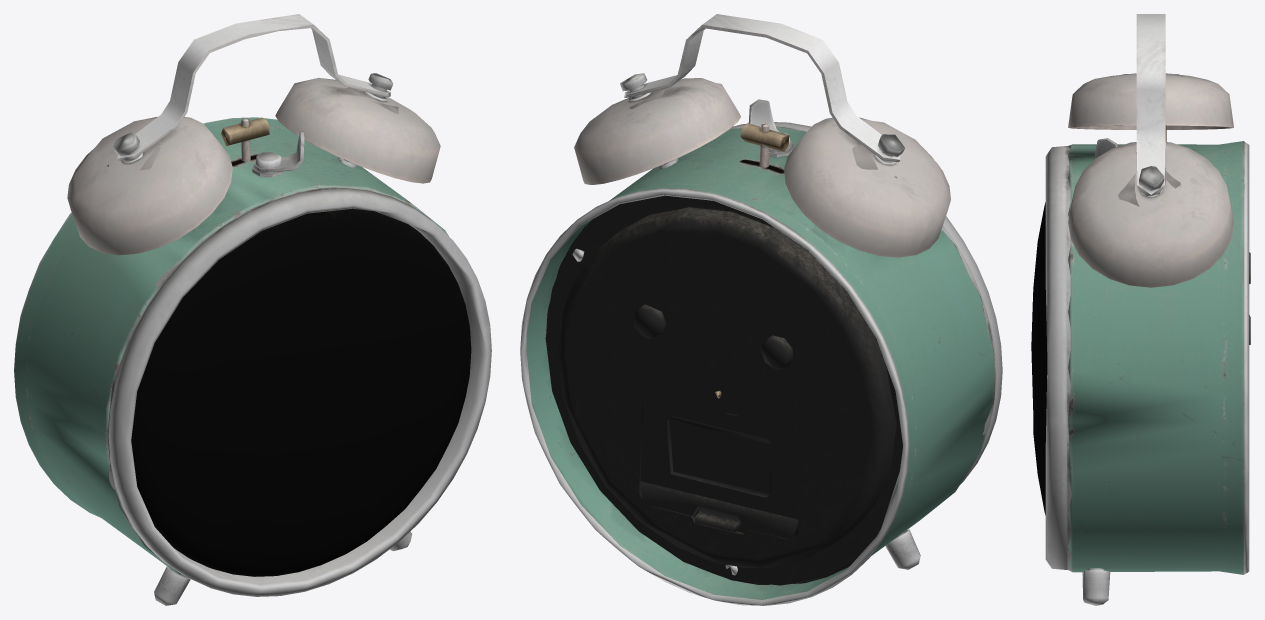
File: alarm_clock_01.glb
3 renders of one model, left to right at view 1: azimuth 30°, elevation 25°; view 2: azimuth 150°, elevation 25°; view 3: azimuth 270°, elevation 25°, orthographic. The views are drawn at different scales.
Visible parts, largest first — view 1: alarm_clock_01; view 2: alarm_clock_01; view 3: alarm_clock_01.
Boxes of the visible parts, x1,y1,x2,y2 form: alarm_clock_01: (14, 14, 491, 605); alarm_clock_01: (520, 14, 1002, 605); alarm_clock_01: (1031, 14, 1250, 605).
Bounding box in the file's own units: 0.1312 × 0.1738 × 0.0662.
Materials: 2 (2 with a texture image).
